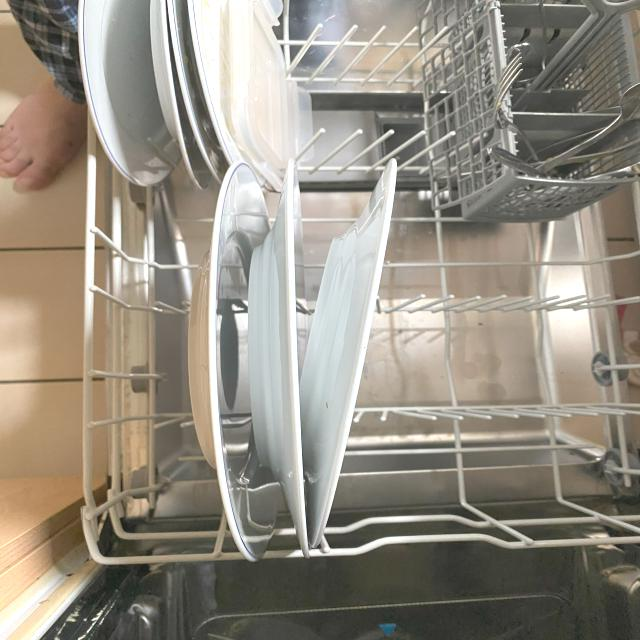clutery_bin: (472, 0, 638, 197)
empty_slot: (413, 231, 634, 524)
